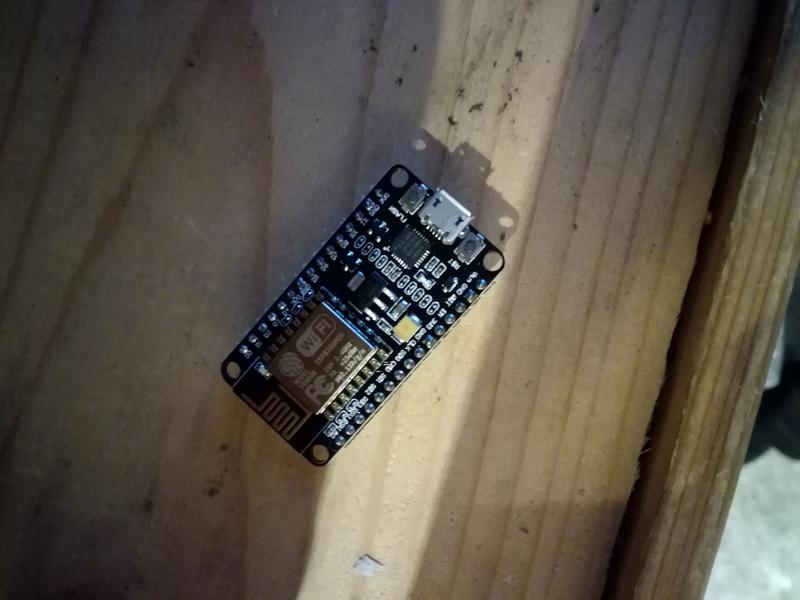ESP8266: (216, 162, 513, 471)
